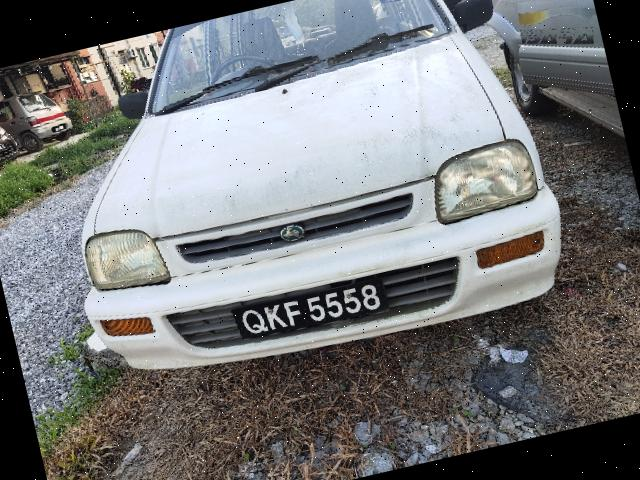License_Plate: (231, 275, 389, 343)
car: (30, 1, 584, 408)
